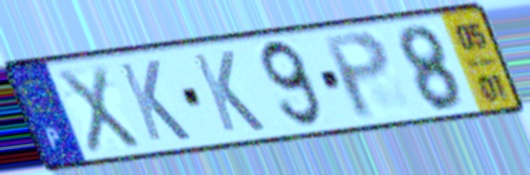8: (393, 21, 466, 113)
9: (257, 38, 326, 132)
K: (188, 48, 269, 135), (114, 58, 195, 145)
P: (318, 27, 394, 123)
X: (52, 62, 145, 157)
